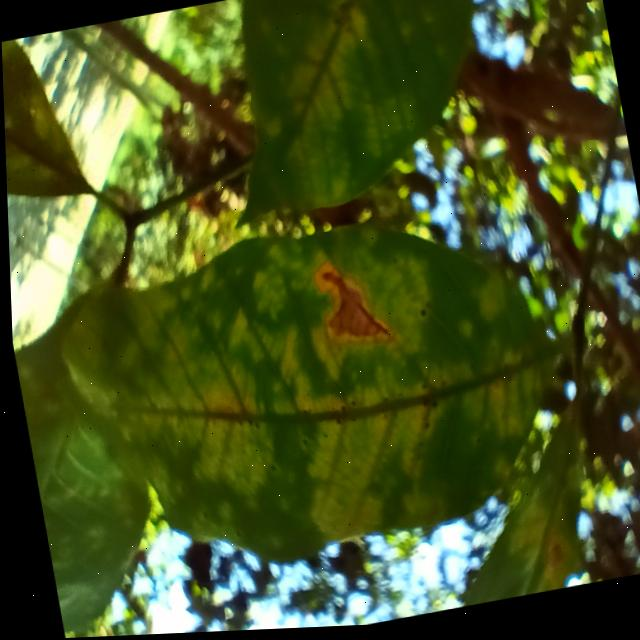Leaf-Blight: (319, 267, 386, 349)
